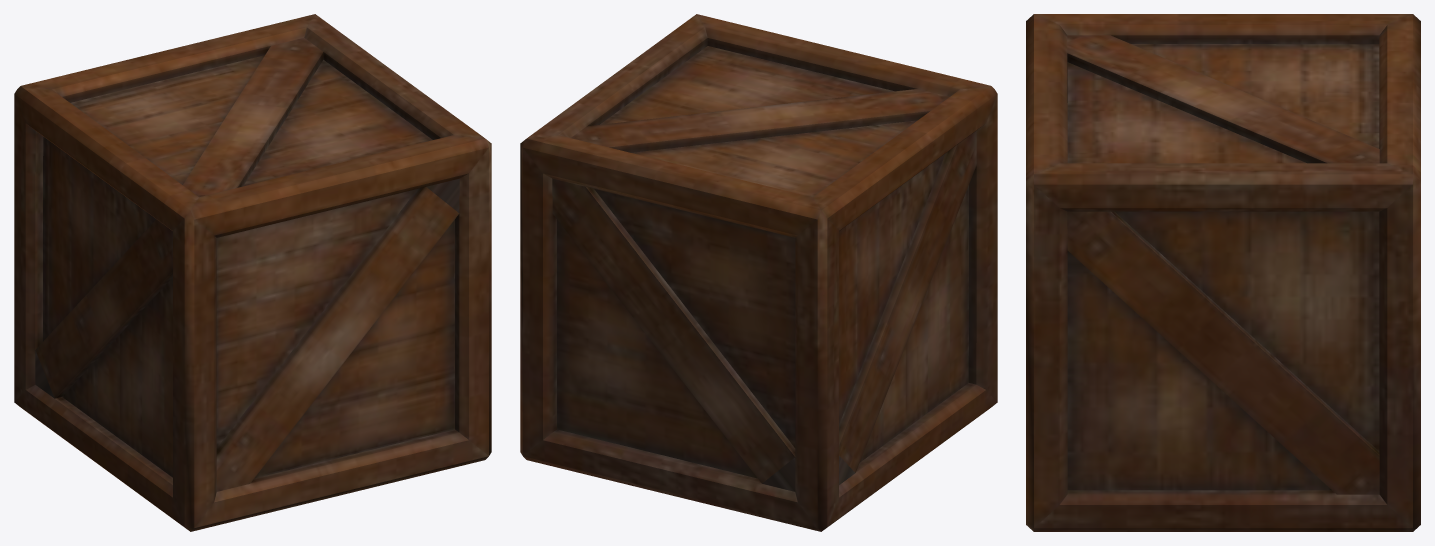
3 views of the same model, side by side, from view 1: azimuth 30°, elevation 25°; view 2: azimuth 150°, elevation 25°; view 3: azimuth 270°, elevation 25° (orthographic). The views are drawn at different scales.
Visible parts, largest first — view 1: crate_1; view 2: crate_1; view 3: crate_1.
Part boxes in pixels (bbox=[...]): crate_1: bbox=[14, 14, 491, 531]; crate_1: bbox=[520, 14, 997, 531]; crate_1: bbox=[1026, 14, 1420, 531].
Size of the model in its own units: 0.9 by 0.9 by 0.9.
Materials: 1 (1 with a texture image).
